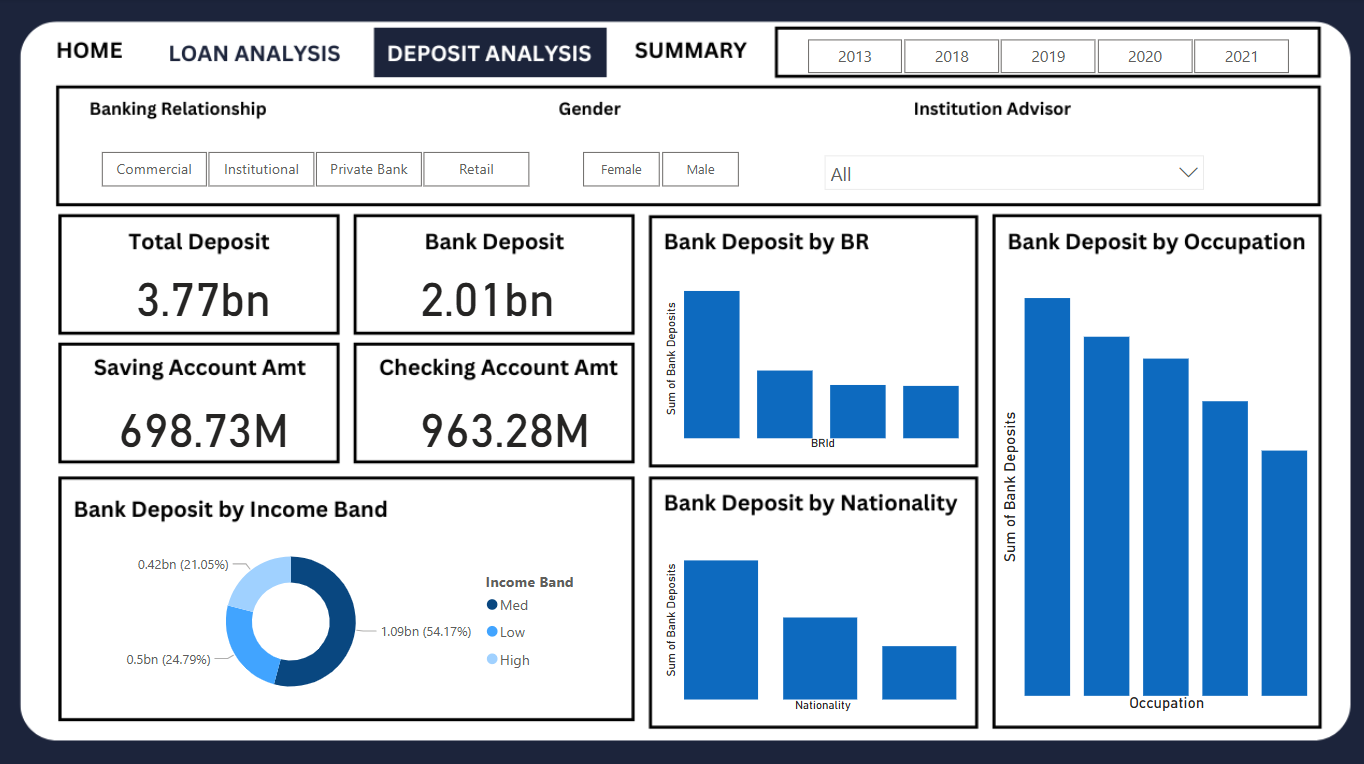

This screenshot's page, from the dashboard's own definition file:
{"tool":"powerbi","page":{"name":"Deposit Analysis","canvas":[1280,720],"ordinal":2},"visuals":[{"type":"slicer","fields":{"Values":["banking_case customer.year of joining"]},"box":[729.1,31.4,497.7,45.3],"z":0},{"type":"actionButton","box":[36,31.4,103.5,40.7],"z":1000},{"type":"actionButton","box":[139.5,27.9,207,44.2],"z":2000},{"type":"actionButton","box":[581.4,31.4,134.9,45.3],"z":3000},{"type":"card","fields":{"Values":["banking_case customer.Total Deposit"]},"box":[105.8,247.7,174.4,55.8],"z":4000},{"type":"card","fields":{"Values":["Sum(banking_case customer.Bank Deposits)"]},"box":[369.8,247.7,174.4,55.8],"z":5000},{"type":"card","fields":{"Values":["Sum(banking_case customer.Saving Accounts)"]},"box":[105.8,369.8,174.4,55.8],"z":6000},{"type":"card","fields":{"Values":["Sum(banking_case customer.Checking Accounts)"]},"box":[386,369.8,174.4,55.8],"z":7000},{"type":"donutChart","fields":{"Category":["banking_case customer.Income Band"],"Y":["Sum(banking_case customer.Bank Deposits)"]},"box":[88.4,497.7,472.1,165.1],"z":8000},{"type":"clusteredColumnChart","fields":{"Category":["banking_case customer.BRId"],"Y":["Sum(banking_case customer.Bank Deposits)"]},"box":[617.4,247.7,286,177.9],"z":9000},{"type":"clusteredColumnChart","fields":{"Category":["banking_case customer.Nationality"],"Y":["Sum(banking_case customer.Bank Deposits)"]},"box":[617.4,490.7,286,177.9],"z":10000},{"type":"clusteredColumnChart","fields":{"Category":["banking_case customer.Occupation"],"Y":["Sum(banking_case customer.Bank Deposits)"]},"box":[930.4,247,296.4,422.6],"z":11000},{"type":"slicer","fields":{"Values":["banking_case customer.BRId"]},"box":[72.1,136,447.7,46.5],"z":12000},{"type":"slicer","fields":{"Values":["banking_case customer.GenderId"]},"box":[519.8,136,195.3,46.5],"z":13000},{"type":"slicer","fields":{"Values":["banking_case customer.IAId"]},"box":[760.5,136,373.3,47],"z":14000},{"type":"actionButton","box":[353.5,27.9,207,44.2],"z":15000}]}

Visuals, with their boxes in screenshot pixels (x1, y1, x2, y2), scaled from the page's 1280x720 canvas onto the 1364x764 screenshot:
slicer - banking_case customer.year of joining: left=777, top=33, right=1307, bottom=81
actionButton: left=38, top=33, right=149, bottom=77
actionButton: left=149, top=30, right=369, bottom=77
actionButton: left=620, top=33, right=763, bottom=81
card - banking_case customer.Total Deposit: left=113, top=263, right=299, bottom=322
card - Sum(banking_case customer.Bank Deposits): left=394, top=263, right=580, bottom=322
card - Sum(banking_case customer.Saving Accounts): left=113, top=392, right=299, bottom=452
card - Sum(banking_case customer.Checking Accounts): left=411, top=392, right=597, bottom=452
donutChart - banking_case customer.Income Band x Sum(banking_case customer.Bank Deposits): left=94, top=528, right=597, bottom=703
clusteredColumnChart - banking_case customer.BRId x Sum(banking_case customer.Bank Deposits): left=658, top=263, right=963, bottom=452
clusteredColumnChart - banking_case customer.Nationality x Sum(banking_case customer.Bank Deposits): left=658, top=521, right=963, bottom=709
clusteredColumnChart - banking_case customer.Occupation x Sum(banking_case customer.Bank Deposits): left=991, top=262, right=1307, bottom=711
slicer - banking_case customer.BRId: left=77, top=144, right=554, bottom=194
slicer - banking_case customer.GenderId: left=554, top=144, right=762, bottom=194
slicer - banking_case customer.IAId: left=810, top=144, right=1208, bottom=194
actionButton: left=377, top=30, right=597, bottom=77
